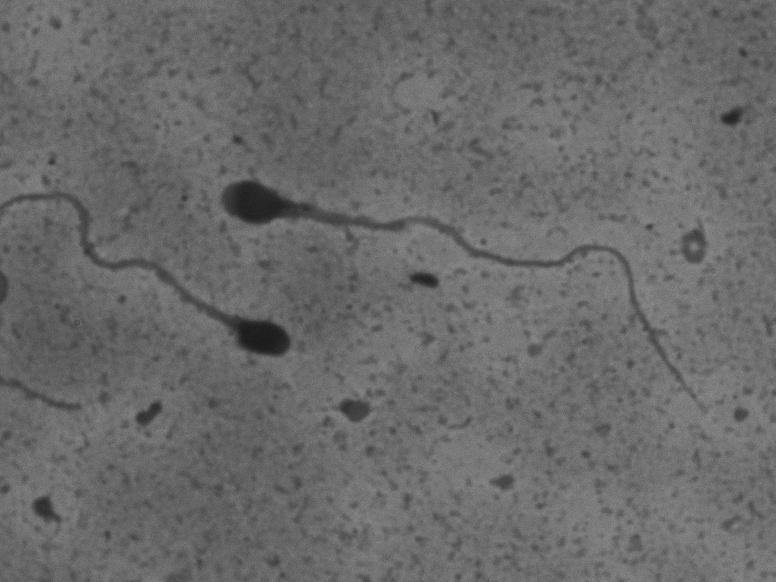Abnormal: (208, 156, 711, 292), (12, 177, 303, 369)
